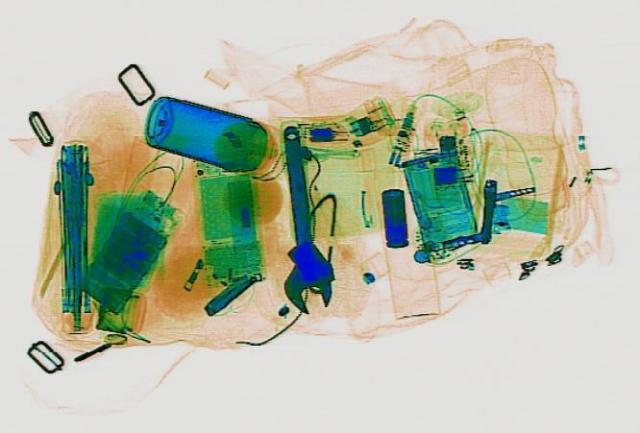Wrench: (262, 123, 340, 314)
